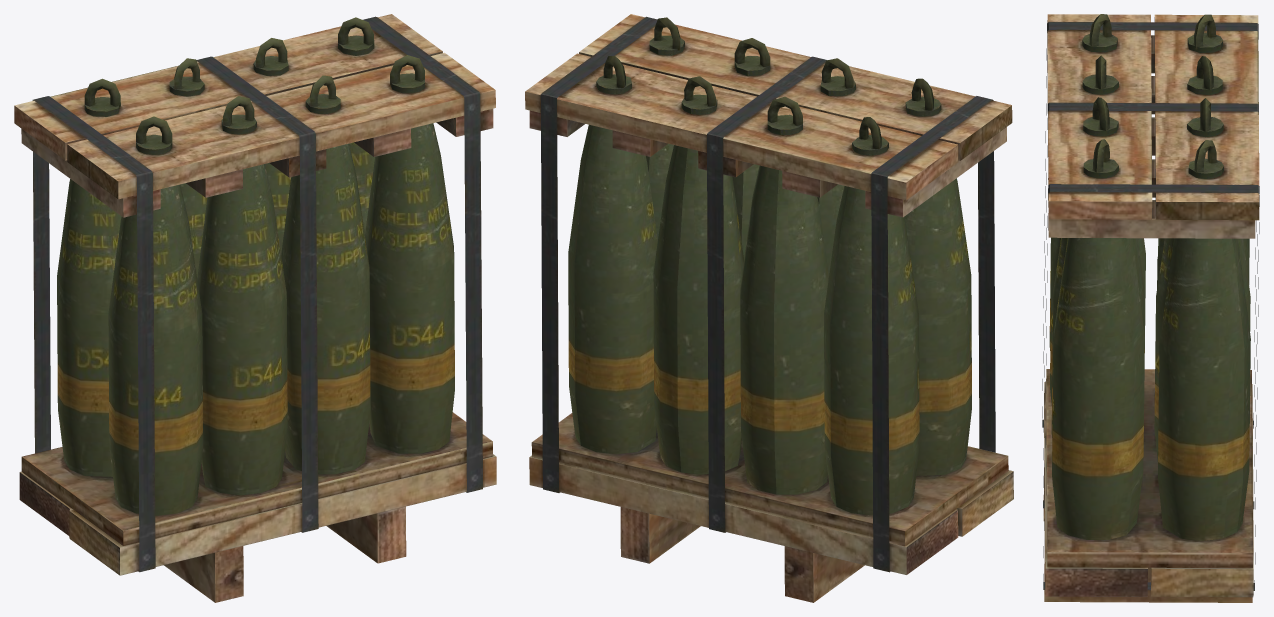
Rendered from Ammunition_01.fbx.
3 views of the same model, side by side, from view 1: azimuth 30°, elevation 25°; view 2: azimuth 150°, elevation 25°; view 3: azimuth 270°, elevation 25° (orthographic).
Parts seen in each view (by area): view 1: cubus_faun_912_21.009; view 2: cubus_faun_912_21.009; view 3: cubus_faun_912_21.009.
Boxes of the visible parts, x1,y1,x2,y2 form: cubus_faun_912_21.009: [14, 14, 496, 602]; cubus_faun_912_21.009: [525, 14, 1013, 602]; cubus_faun_912_21.009: [1042, 14, 1259, 602].
Size of the model in its own units: 85.83 by 103 by 42.34.
